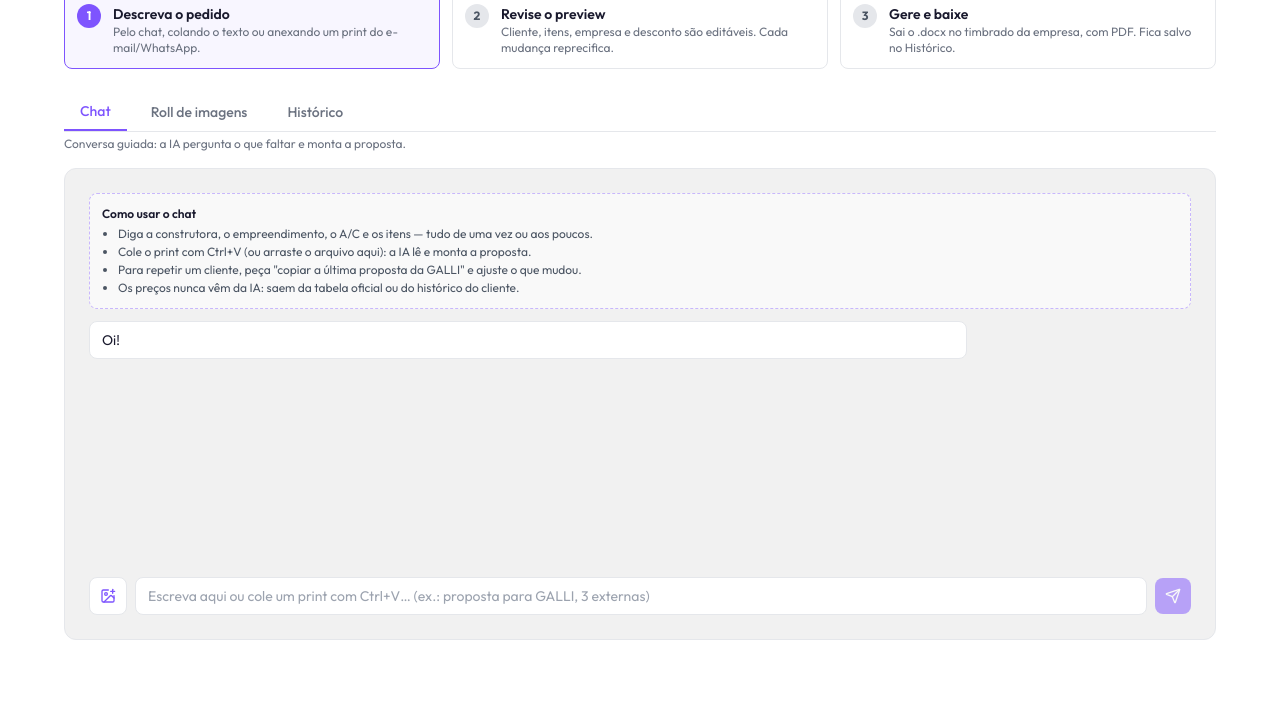
PropostaAgent — orientação de fluxo › o guia começa no passo 1 e avança para o 2 quando o preview aparece
(page scrolled)
Expected: the text "Oi!" is shown, [89,321,967,359]
Expected: the list item that starts with "Descreva o pedido" is shown, [113,5,230,23]
Replace the text in the field with placeholder "Escreva aqui" with "proposta para GALLI" at (641, 596), box [135,577,1147,615]
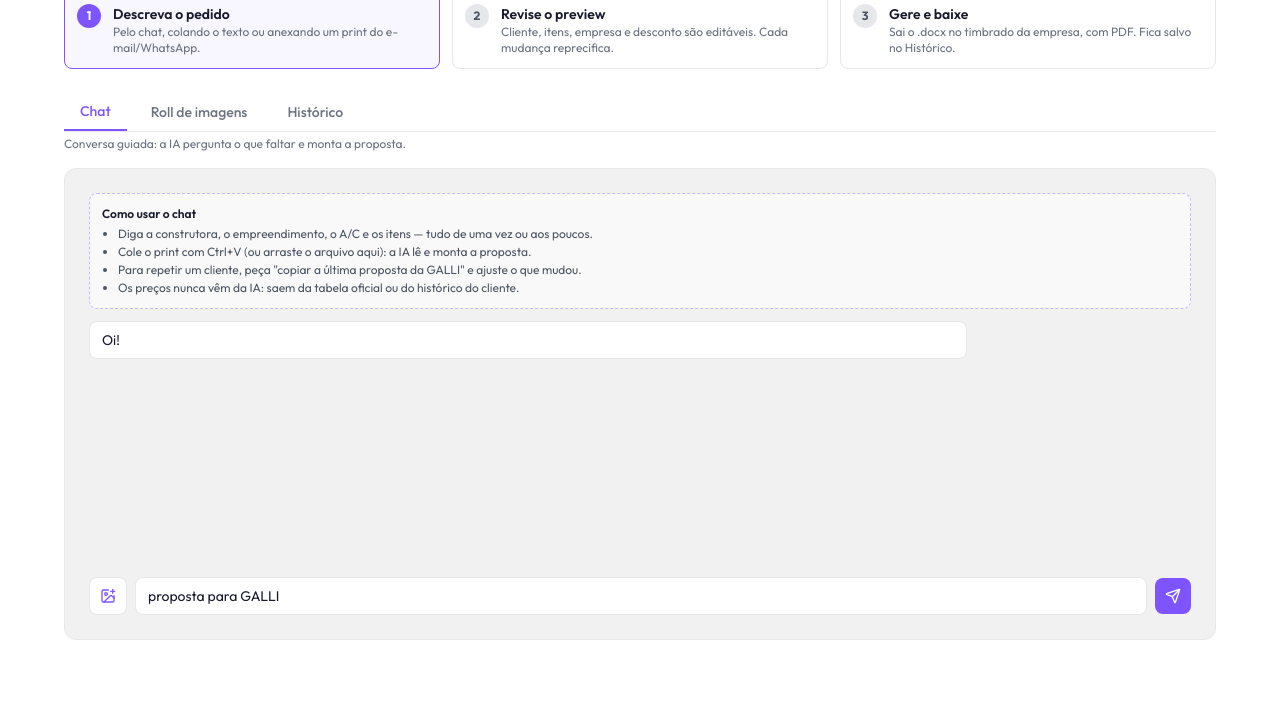
Click the button named "Enviar mensagem" at (1173, 596), box [1155,578,1191,614]
(page scrolled)
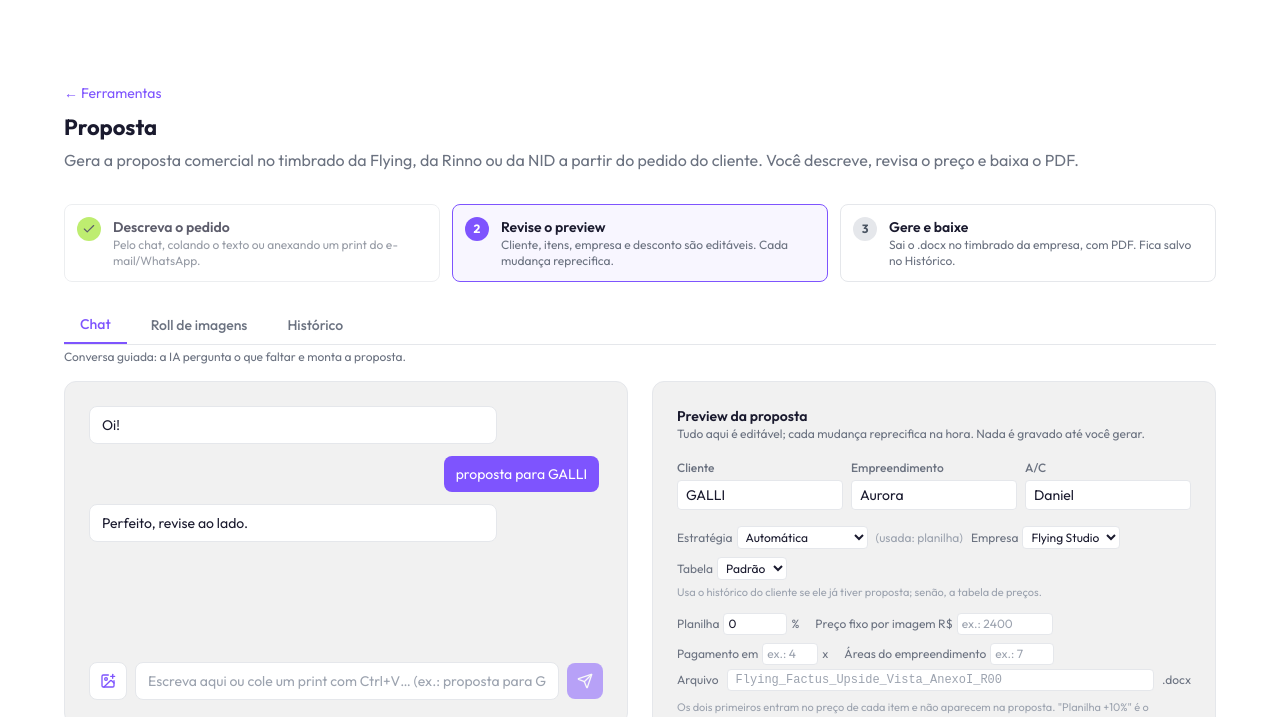
Expected: the list item that starts with "Revise o preview" is shown, [501,218,605,236]
Expected: the text "Perfeito, revise ao lado." is shown, [89,504,497,542]
